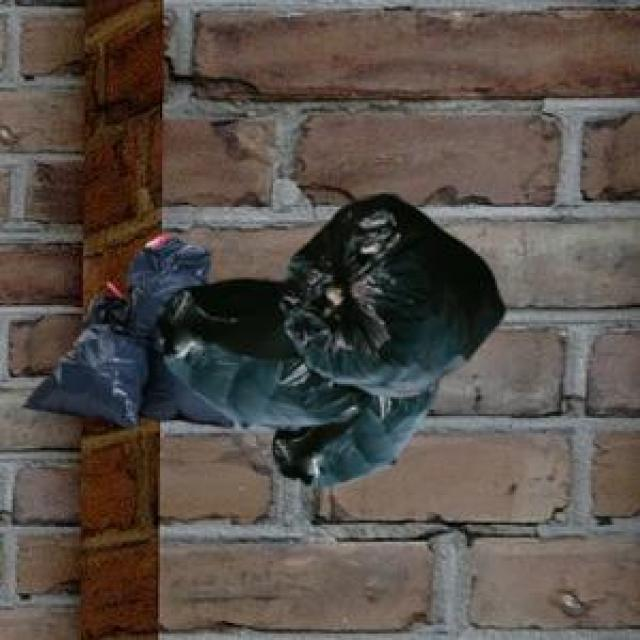waste: (28, 195, 505, 484)
